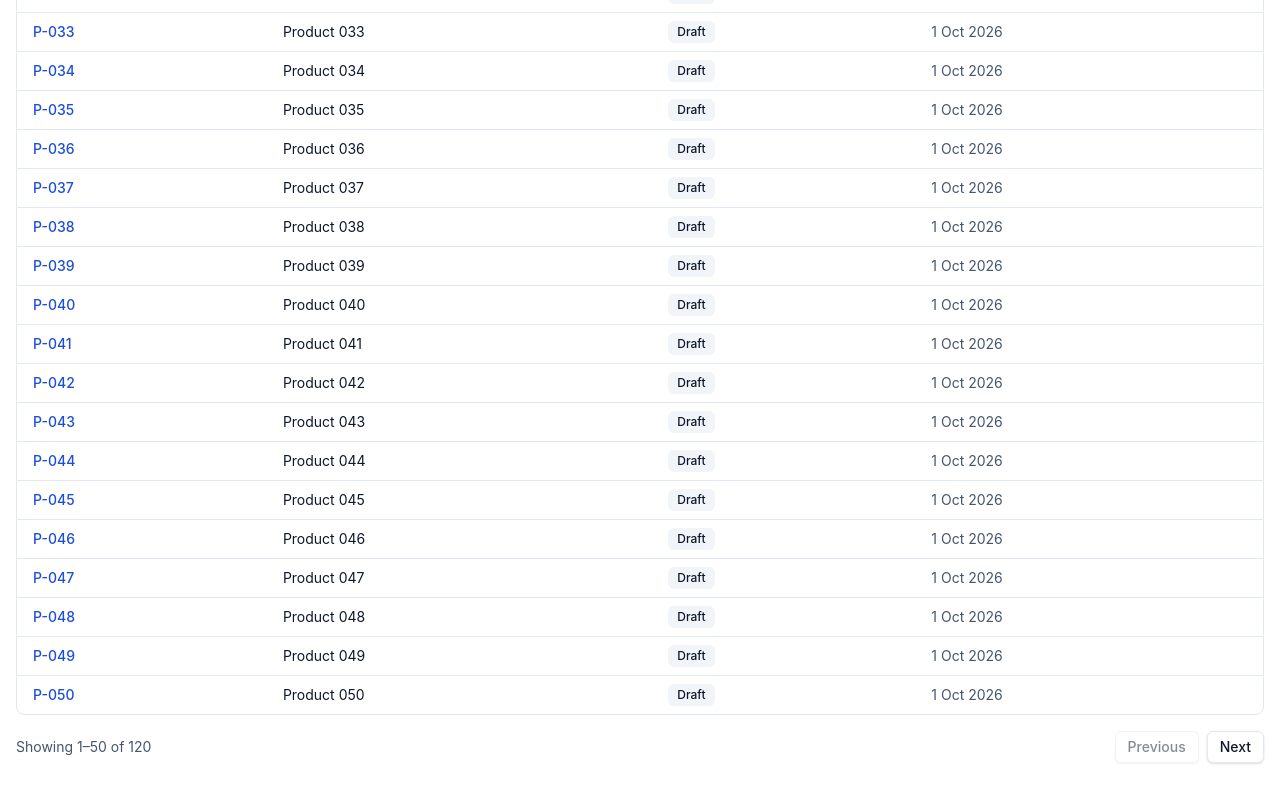
Scenario: ProductsPage list › pages with Next and Previous, keeping the offset in the URL
(page scrolled)
Expected: the text "Showing 1–50 of 120" is shown, [16,737,151,757]
Expected: the button "Previous" is disabled, [1115,731,1199,763]
Click the button "Next".
click(1235, 747)  # box [1207,731,1264,763]
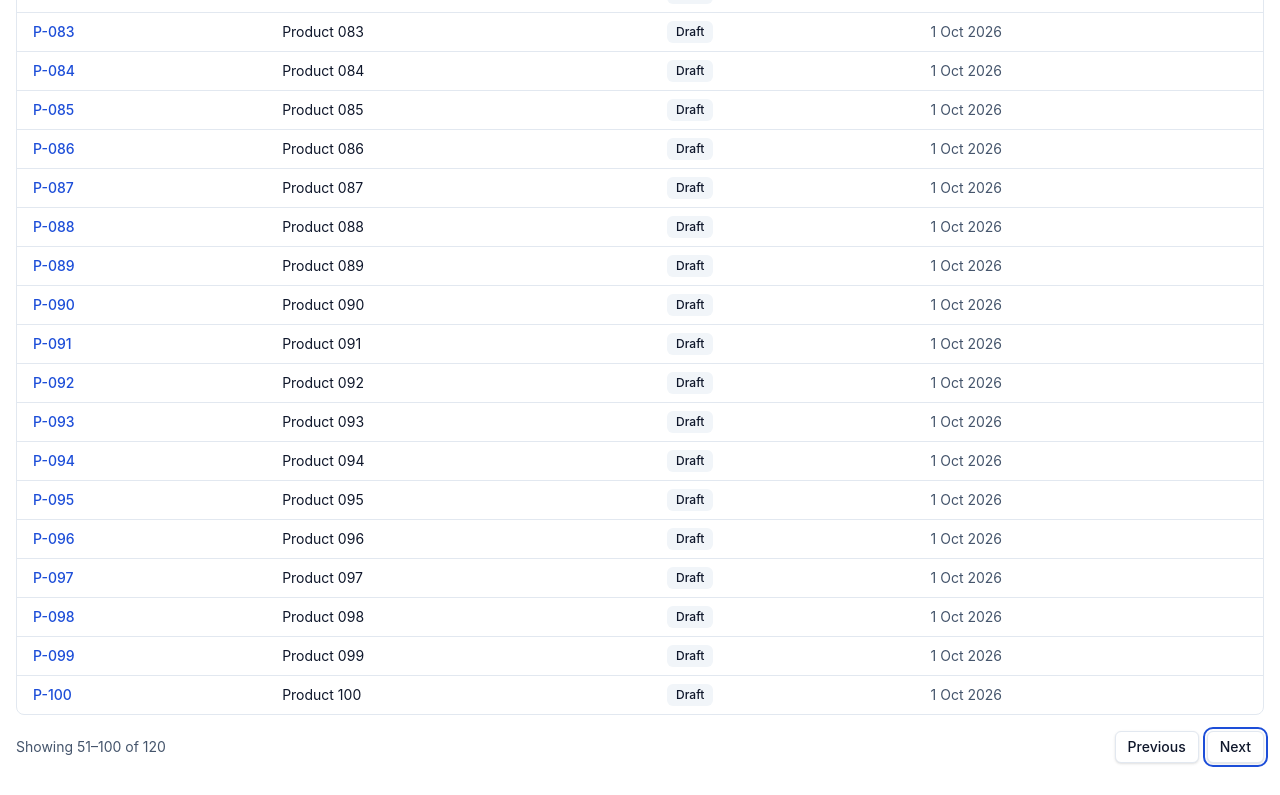
Expected: the text "Showing 51–100 of 120" is shown, [16,737,166,757]
Expected: the link "P-050" is gone
Click the button "Next".
click(1235, 747)  # box [1207,731,1264,763]
(page scrolled)
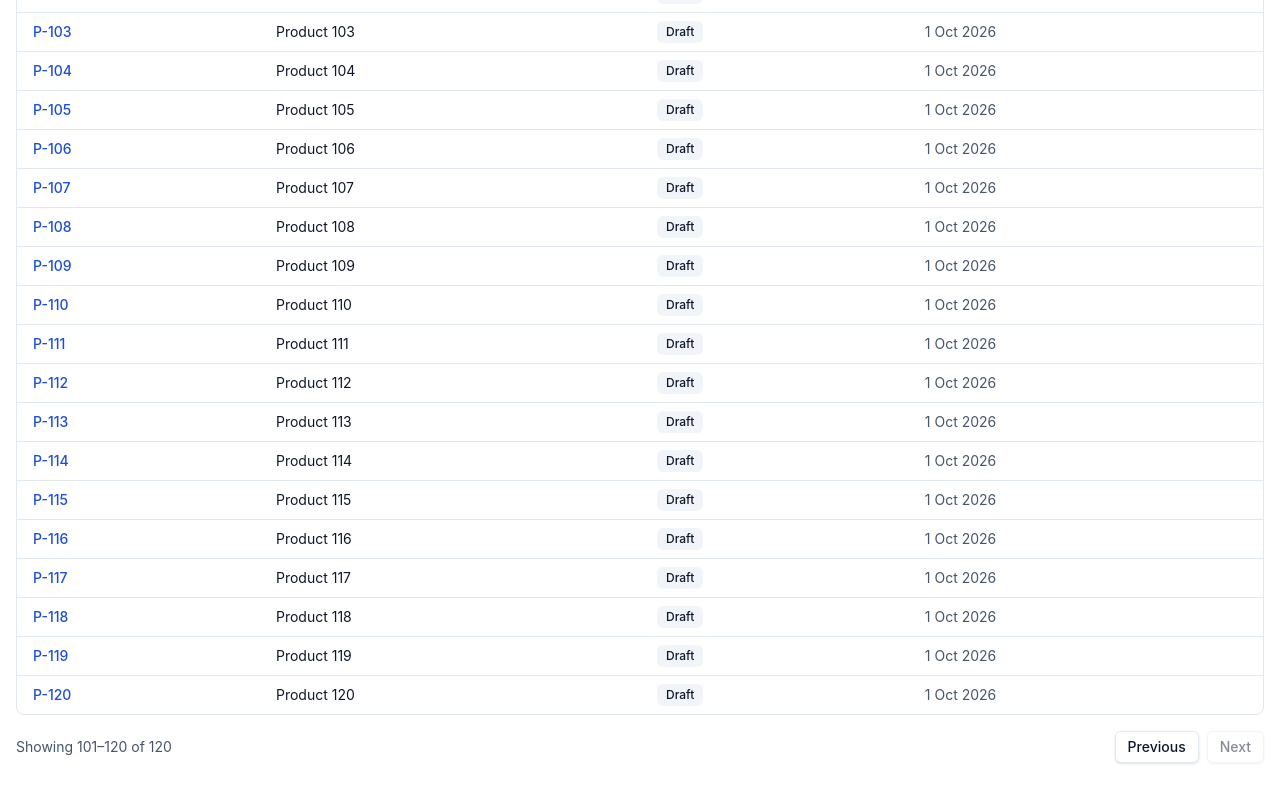
Expected: the text "Showing 101–120 of 120" is shown, [16,737,172,757]
Expected: the button "Next" is disabled, [1207,731,1264,763]
Click the button "Previous".
click(1157, 747)  # box [1115,731,1199,763]
(page scrolled)
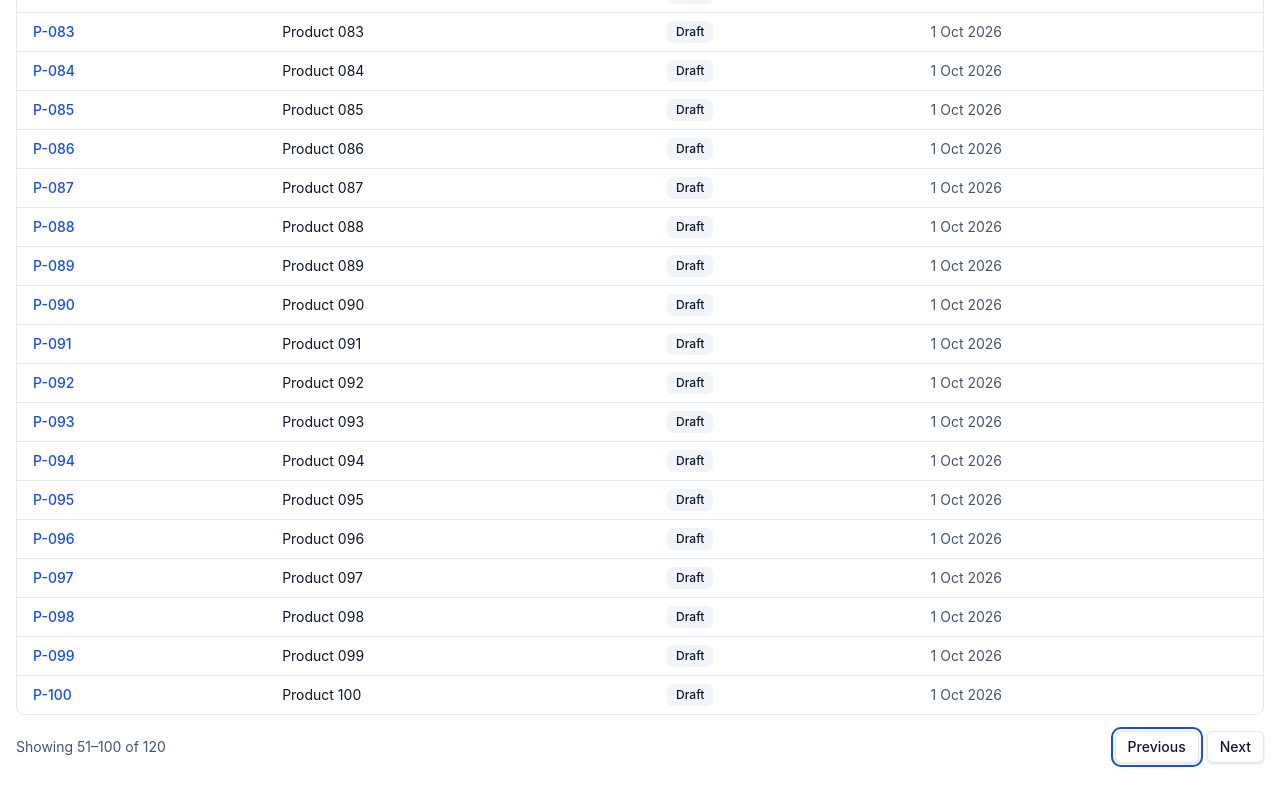
Expected: the text "Showing 51–100 of 120" is shown, [16,737,166,757]
